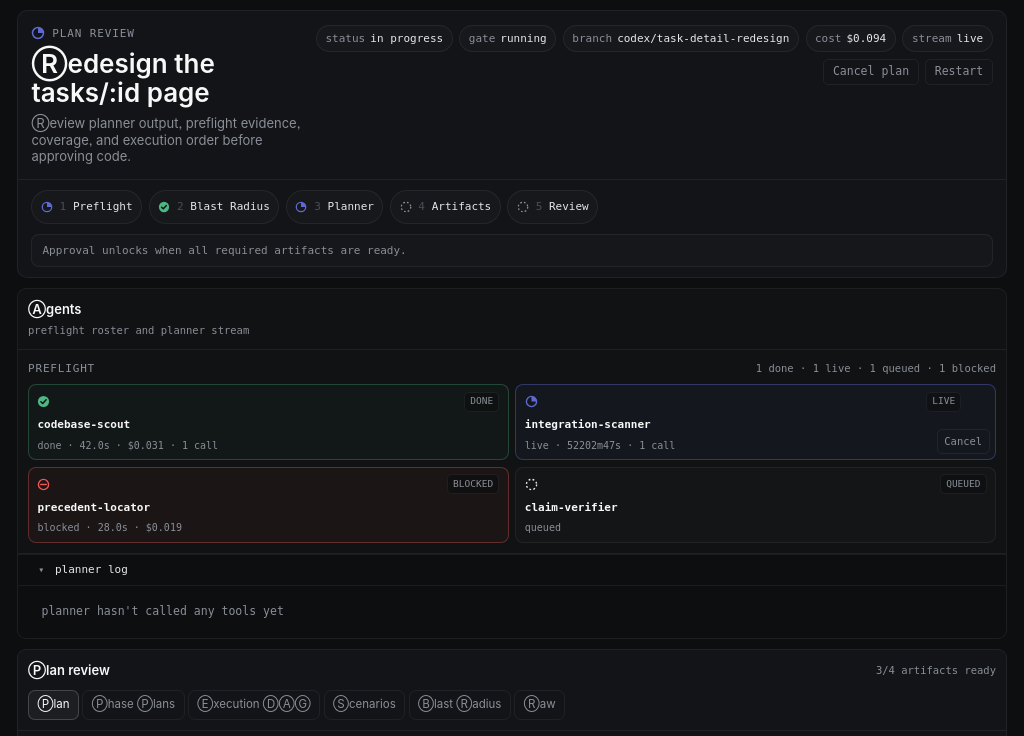
Scenario: PlanConsole › shows a stable empty state when execution-dag.yaml is missing
Click the tab "Execution DAG" at (254, 705), box x1=188 y1=690 x2=320 y2=720
(page scrolled)
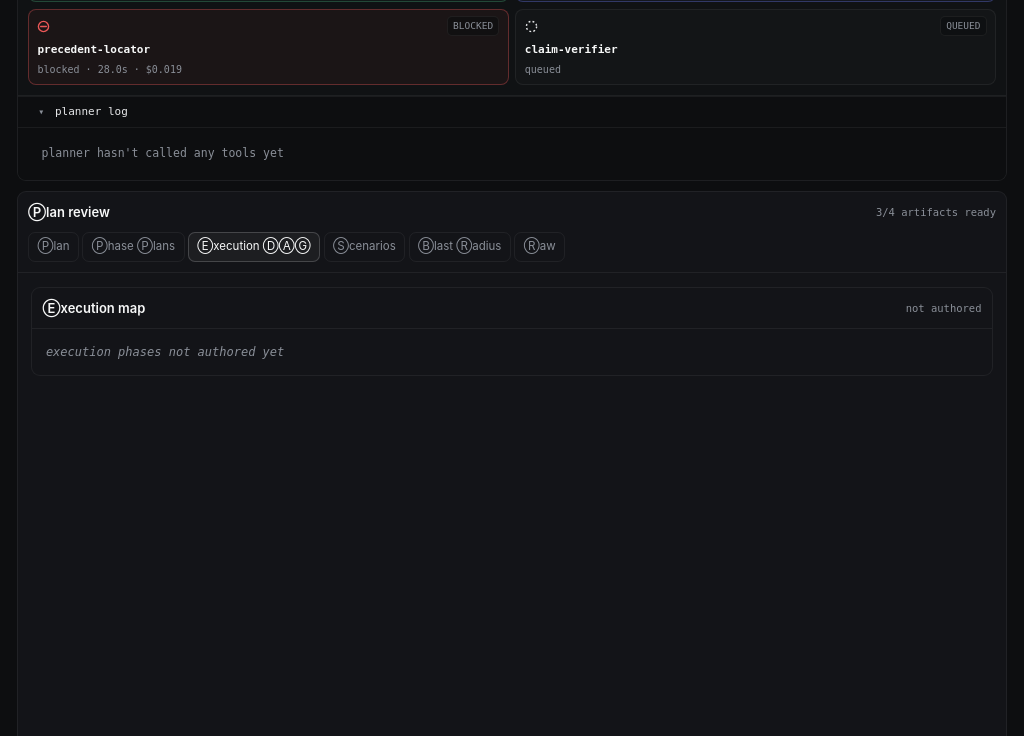
Now the text "execution phases not authored yet" is shown, box x1=46 y1=345 x2=284 y2=359
